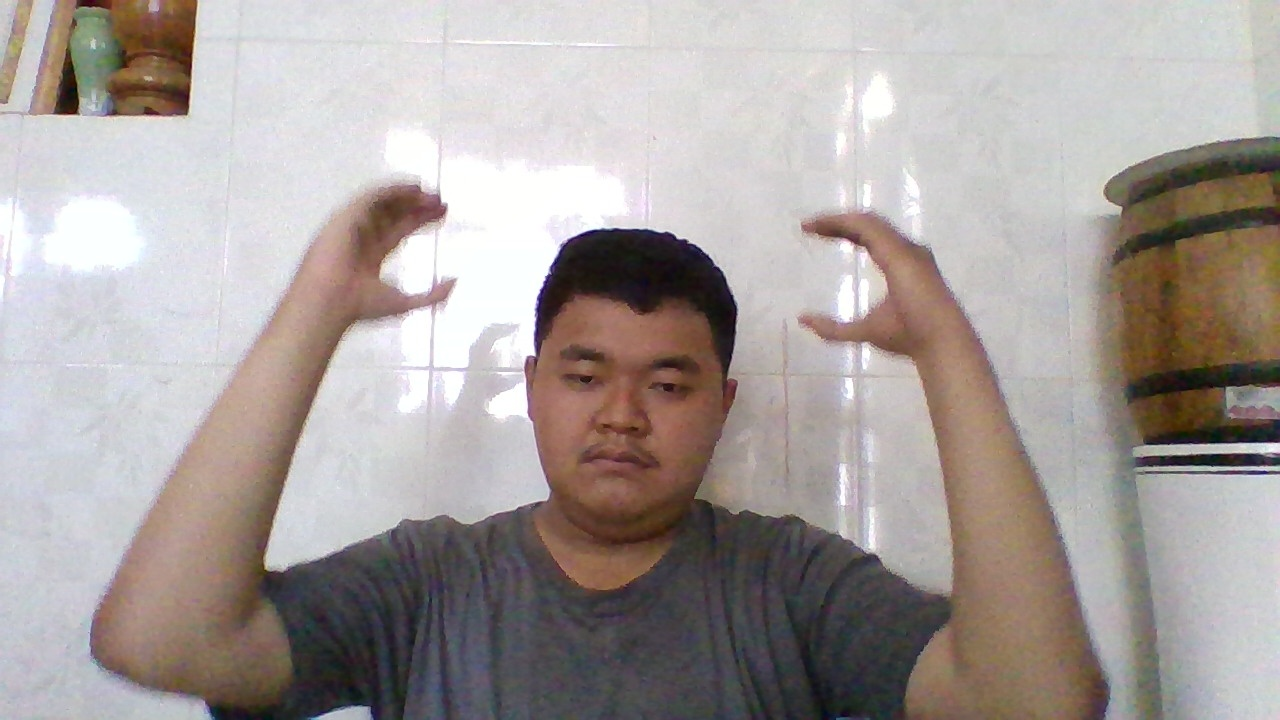C: (792, 202, 956, 363), (316, 171, 464, 322)
